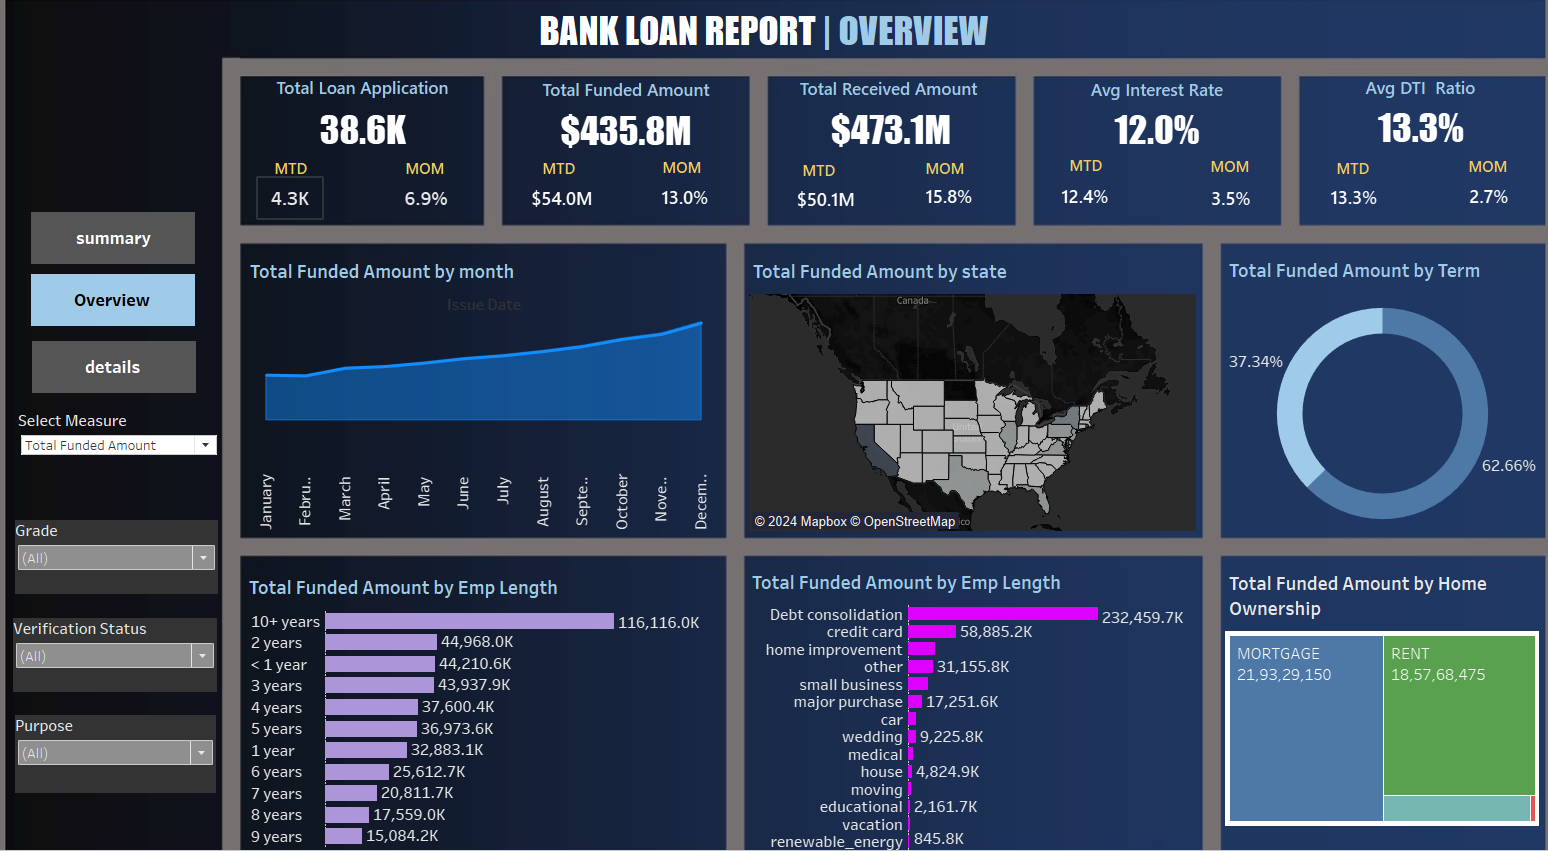

What the dashboard file says about the page in this screenshot:
{"tool":"tableau","page":{"name":"Overview","canvas":[1600,900],"ordinal":1},"visuals":[{"type":"image","param":"C:/Users/anush/Downloads/Tableau Background 2.jpg","box":[8,8,1584,884]},{"type":"text","box":[560,30,468,46]},{"type":"image","param":"C:/Users/anush/AppData/Local/Temp/TableauTemp/0ytajt71u13bmc1h93rtn0pov0lx/Sheet","box":[31,81,212,126]},{"type":"worksheet","title":"Total Loan Application","mark":"Automatic","box":[265,94,243,77]},{"type":"worksheet","title":"Avg DTI  Ratio","mark":"Automatic","box":[1325,94,239,73]},{"type":"worksheet","title":"Total Received Amount ","mark":"Automatic","box":[792,95,246,76]},{"type":"worksheet","title":"Total Funded Amount","mark":"Automatic","box":[526,96,248,75]},{"type":"worksheet","title":"Avg Interest Rate","mark":"Automatic","box":[1057,96,248,73]},{"type":"text","box":[1090,172,43,30]},{"type":"text","box":[1231,172,48,32]},{"type":"text","box":[1489,172,48,32]},{"type":"text","box":[683,173,48,32]},{"type":"text","box":[426,174,48,32]},{"type":"text","box":[946,174,48,32]},{"type":"text","box":[295,175,43,30]},{"type":"text","box":[563,175,43,30]},{"type":"text","box":[1357,175,43,30]},{"type":"text","box":[823,177,43,30]},{"type":"worksheet","title":"MOM Received Amount","mark":"Automatic","box":[932,192,81,52]},{"type":"worksheet","title":"MOM Funded Amount","mark":"Automatic","box":[667,194,83,49]},{"type":"worksheet","title":"MTD Avg Interest Rate","mark":"Automatic","box":[1072,195,73,46]},{"type":"worksheet","title":"MOM Avg Interest Rate","mark":"Automatic","box":[1218,195,73,49]},{"type":"worksheet","title":"MOM Avg DTI Ratio","mark":"Automatic","box":[1478,196,70,43]},{"type":"worksheet","title":"MOM Loan Applications","mark":"Automatic","box":[416,198,68,44]},{"type":"worksheet","title":"MTD Total Received Amount","mark":"Automatic","box":[816,198,67,45]},{"type":"worksheet","title":"MTD Avg DTI Ratio","mark":"Automatic","box":[1344,198,67,41]},{"type":"worksheet","title":"MTD Total Loan Applications","mark":"Automatic","box":[282,200,64,40]},{"type":"worksheet","title":"MTD Total Funded Amount","mark":"Automatic","box":[550,205,72,30]},{"type":"dashboard-object","box":[55,234,164,52]},{"type":"worksheet","title":"Loan Term Analysis","mark":"Pie","rows":["Calculation_873416879731613744","Calculation_873416879731843122"],"box":[1249,275,315,281]},{"type":"worksheet","title":"Month","mark":"Area","rows":["Calculation_873416879721164842","Calculation_873416879721164842"],"cols":["issue_date"],"box":[270,276,475,277]},{"type":"worksheet","title":"Regional analysis","mark":"Multipolygon","box":[773,276,447,277]},{"type":"dashboard-object","box":[55,296,164,52]},{"type":"dashboard-object","box":[56,363,164,52]},{"type":"parameter","param":"[Parameters].[Parameter 1]","box":[42,432,202,75]},{"type":"filter","title":"Avg DTI  Ratio","param":"[federated.0oeotu305bv65416k87eb1hq1avq].[none:grade:nk]","box":[39,542,203,74]},{"type":"worksheet","title":"Loan Purpose","mark":"Automatic","rows":["purpose"],"cols":["Calculation_873416879721164842"],"box":[772,587,449,285]},{"type":"worksheet","title":"Home Ownership","mark":"Automatic","box":[1249,588,314,286]},{"type":"worksheet","title":"Emp Length","mark":"Automatic","rows":["emp_length"],"cols":["Calculation_873416879721164842"],"box":[269,592,473,277]},{"type":"filter","title":"Avg DTI  Ratio","param":"[federated.0oeotu305bv65416k87eb1hq1avq].[none:verification_status:nk]","box":[37,640,204,74]},{"type":"filter","title":"Avg DTI  Ratio","param":"[federated.0oeotu305bv65416k87eb1hq1avq].[none:purpose:nk]","box":[39,737,201,78]}]}

Visuals, with their boxes in screenshot pixels (x1, y1, x2, y2), scaled from the page's 1600x900 canvas onto the 1548x851 screenshot:
image: rect(8, 8, 1540, 843)
text: rect(542, 28, 995, 72)
image: rect(30, 77, 235, 196)
"Total Loan Application" worksheet: rect(256, 89, 491, 162)
"Avg DTI  Ratio" worksheet: rect(1282, 89, 1513, 158)
"Total Received Amount " worksheet: rect(766, 90, 1004, 162)
"Total Funded Amount" worksheet: rect(509, 91, 749, 162)
"Avg Interest Rate" worksheet: rect(1023, 91, 1263, 160)
text: rect(1055, 163, 1096, 191)
text: rect(1191, 163, 1237, 193)
text: rect(1441, 163, 1487, 193)
text: rect(661, 164, 707, 194)
text: rect(412, 165, 459, 195)
text: rect(915, 165, 962, 195)
text: rect(285, 165, 327, 194)
text: rect(545, 165, 586, 194)
text: rect(1313, 165, 1354, 194)
text: rect(796, 167, 838, 196)
"MOM Received Amount" worksheet: rect(902, 182, 980, 231)
"MOM Funded Amount" worksheet: rect(645, 183, 726, 230)
"MTD Avg Interest Rate" worksheet: rect(1037, 184, 1108, 228)
"MOM Avg Interest Rate" worksheet: rect(1178, 184, 1249, 231)
"MOM Avg DTI Ratio" worksheet: rect(1430, 185, 1498, 226)
"MOM Loan Applications" worksheet: rect(402, 187, 468, 229)
"MTD Total Received Amount" worksheet: rect(789, 187, 854, 230)
"MTD Avg DTI Ratio" worksheet: rect(1300, 187, 1365, 226)
"MTD Total Loan Applications" worksheet: rect(273, 189, 335, 227)
"MTD Total Funded Amount" worksheet: rect(532, 194, 602, 222)
dashboard-object: rect(53, 221, 212, 270)
"Loan Term Analysis" worksheet (Pie marks): rect(1208, 260, 1513, 526)
"Month" worksheet (Area marks): rect(261, 261, 721, 523)
"Regional analysis" worksheet (Multipolygon marks): rect(748, 261, 1180, 523)
dashboard-object: rect(53, 280, 212, 329)
dashboard-object: rect(54, 343, 213, 392)
parameter: rect(41, 408, 236, 479)
"Avg DTI  Ratio" filter: rect(38, 512, 234, 582)
"Loan Purpose" worksheet: rect(747, 555, 1181, 825)
"Home Ownership" worksheet: rect(1208, 556, 1512, 826)
"Emp Length" worksheet: rect(260, 560, 718, 822)
"Avg DTI  Ratio" filter: rect(36, 605, 233, 675)
"Avg DTI  Ratio" filter: rect(38, 697, 232, 771)
